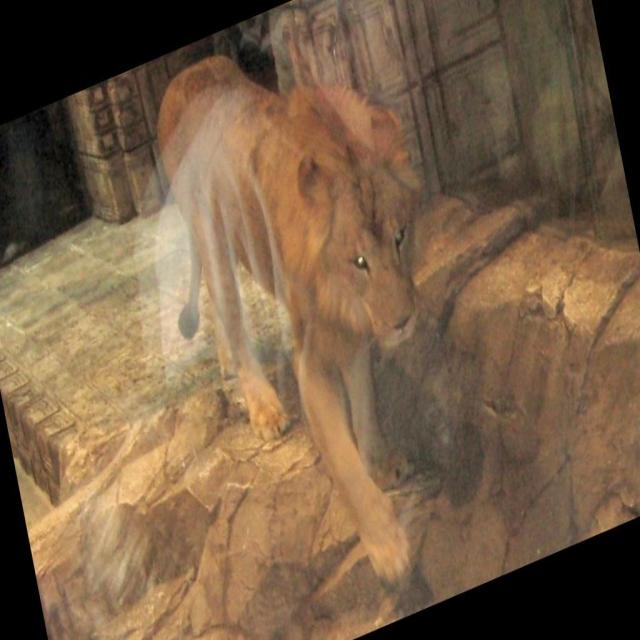Lion: (134, 0, 487, 639)
